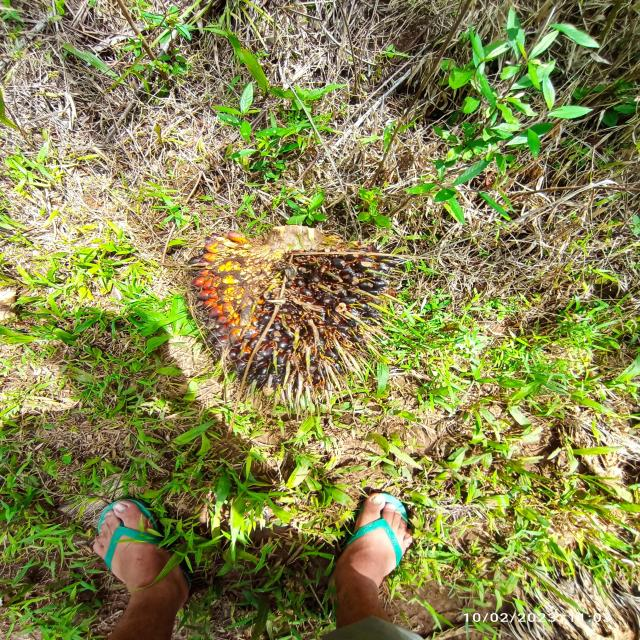fraksi 00: (161, 214, 420, 420)
